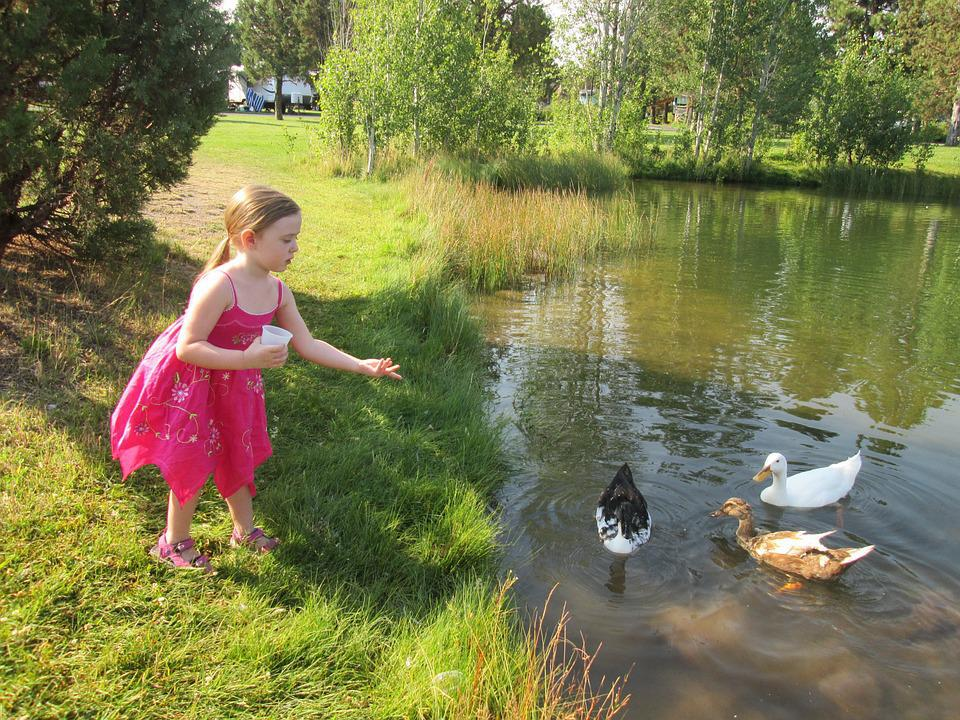child: (106, 184, 397, 580)
